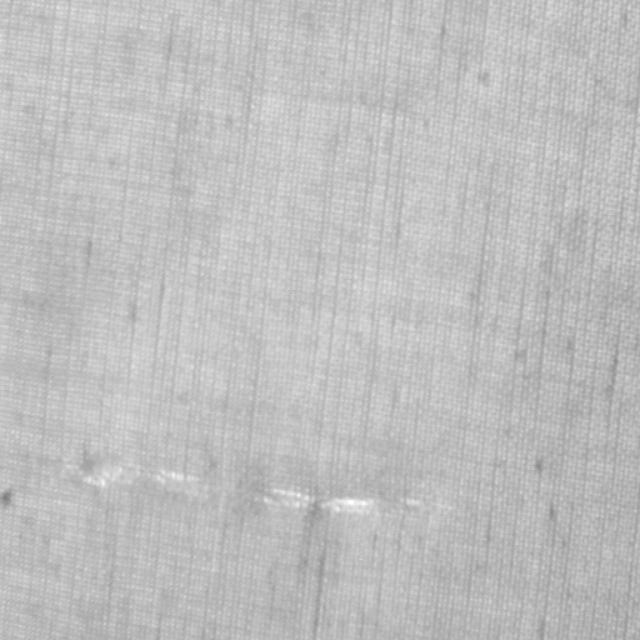thread error: (56, 458, 458, 522)
